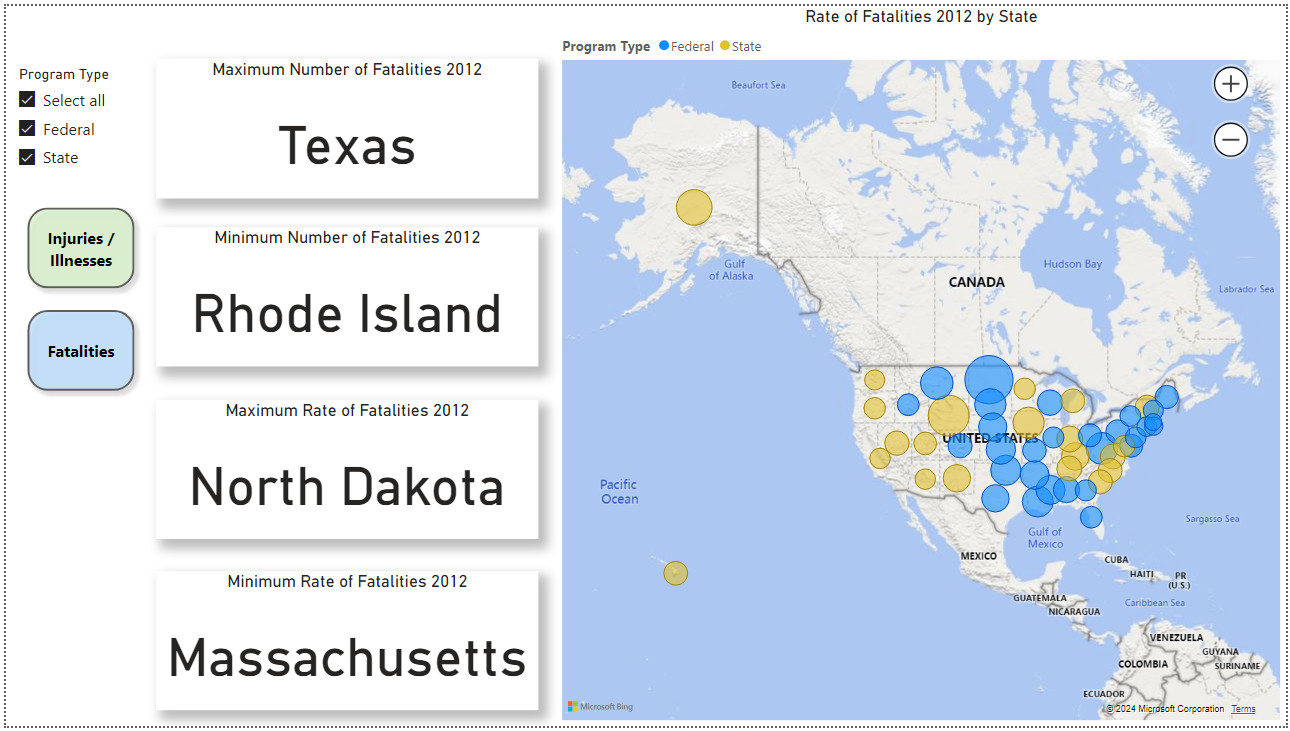

The dashboard page shown, as its layout file describes it:
{"tool":"powerbi","page":{"name":"Injuries/Fatalities per State","canvas":[1280,720],"ordinal":1},"visuals":[{"type":"slicer","fields":{"Values":["Fatalities 2012.Program Type"]},"box":[0,55,150,148.8],"z":5000},{"type":"map","title":"Rate of Fatalities 2012 by State","fields":{"Category":["Fatalities 2012.State"],"Series":["Fatalities 2012.Program Type"],"Size":["Sum(Fatalities 2012.Rate of Fatalities, 2012)"]},"box":[551.6,0,728.4,720],"z":6000},{"type":"card","title":"Maximum Number of Fatalities 2012","fields":{"Values":["Fatalities 2012.FatalMaxState"]},"box":[150,52.5,382.5,140],"z":7000},{"type":"card","title":"Minimum Number of Fatalities 2012","fields":{"Values":["Fatalities 2012.FatalMinState"]},"box":[150.4,221.3,382.6,139.4],"z":8000},{"type":"card","title":"Maximum Rate of Fatalities 2012","fields":{"Values":["Fatalities 2012.FatalRateMaxState"]},"box":[150.4,393.6,382.6,139.4],"z":9000},{"type":"card","title":"Minimum Rate of Fatalities 2012","fields":{"Values":["Fatalities 2012.FatalRateMinState"]},"box":[150.4,564.8,382.6,139.4],"z":10000},{"type":"actionButton","box":[12.5,192.5,125,98.8],"z":11000},{"type":"actionButton","box":[12.5,295,125,98.8],"z":12000}]}

Visuals, with their boxes in screenshot pixels (x1, y1, x2, y2), scaled from the page's 1280x720 canvas onto the 1290x731 screenshot:
slicer - Fatalities 2012.Program Type: {"x1": 0, "y1": 56, "x2": 151, "y2": 207}
"Rate of Fatalities 2012 by State" map: {"x1": 556, "y1": 0, "x2": 1289, "y2": 730}
"Maximum Number of Fatalities 2012" card: {"x1": 151, "y1": 53, "x2": 537, "y2": 195}
"Minimum Number of Fatalities 2012" card: {"x1": 152, "y1": 225, "x2": 537, "y2": 366}
"Maximum Rate of Fatalities 2012" card: {"x1": 152, "y1": 400, "x2": 537, "y2": 541}
"Minimum Rate of Fatalities 2012" card: {"x1": 152, "y1": 573, "x2": 537, "y2": 715}
actionButton: {"x1": 13, "y1": 195, "x2": 139, "y2": 296}
actionButton: {"x1": 13, "y1": 300, "x2": 139, "y2": 400}
